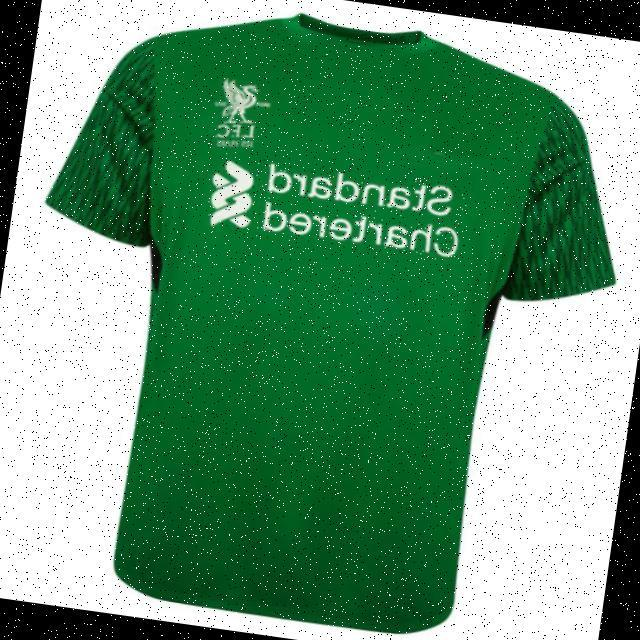Standard Chartered: (203, 151, 469, 266)
